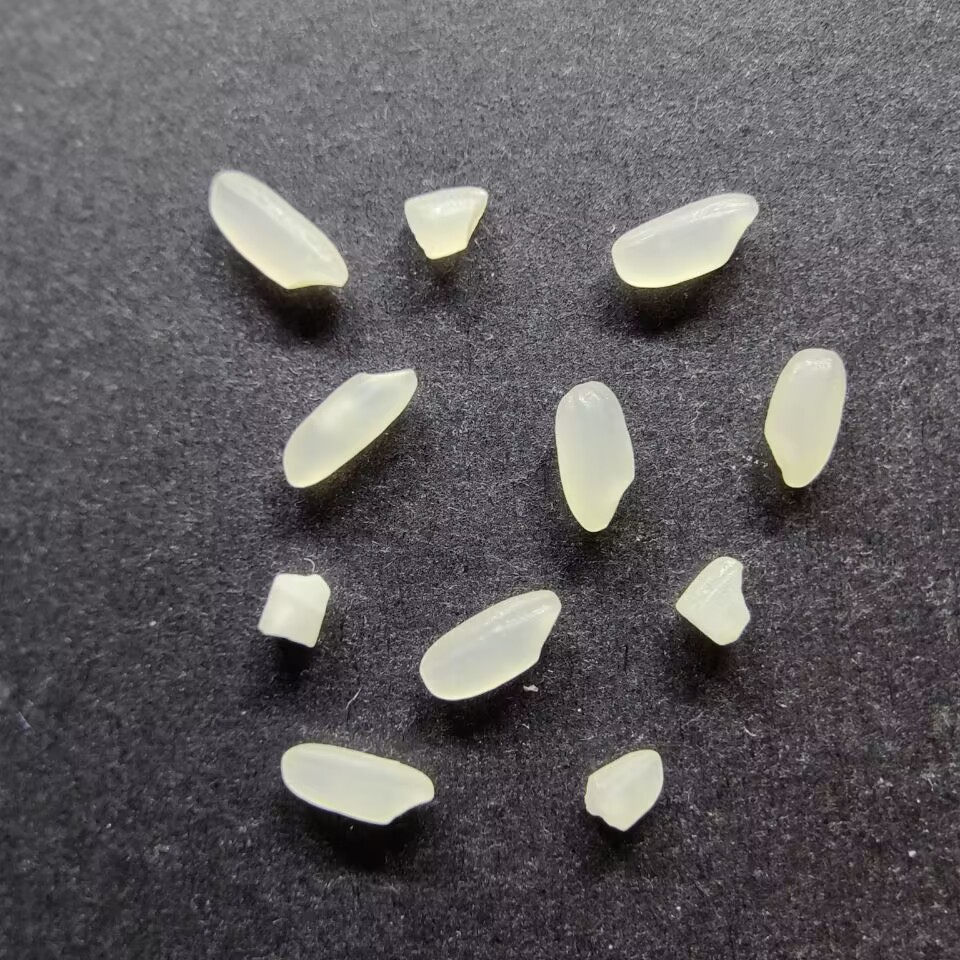broken: (580, 746, 667, 834), (674, 556, 752, 647), (401, 185, 489, 259), (256, 566, 330, 651)
rice: (207, 167, 351, 291), (281, 366, 419, 489), (417, 588, 564, 701), (609, 191, 760, 290), (277, 741, 435, 825), (552, 379, 636, 533), (761, 346, 849, 489)
